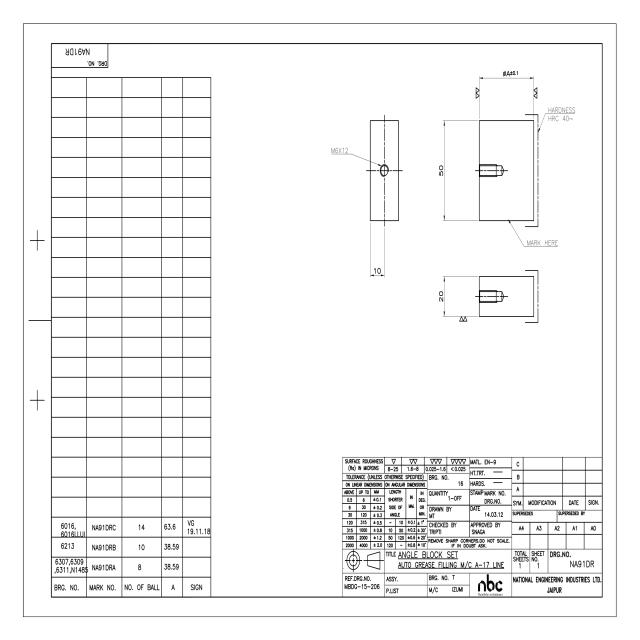dimension: (502, 67, 522, 77), (330, 146, 350, 155), (437, 164, 444, 179), (437, 289, 444, 304), (372, 266, 383, 275)
